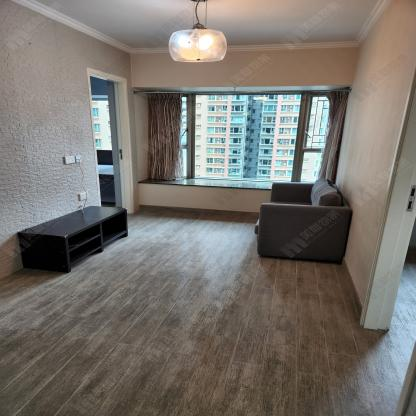Sofa: (253, 178, 353, 266)
Windowsill: (132, 85, 355, 191)
